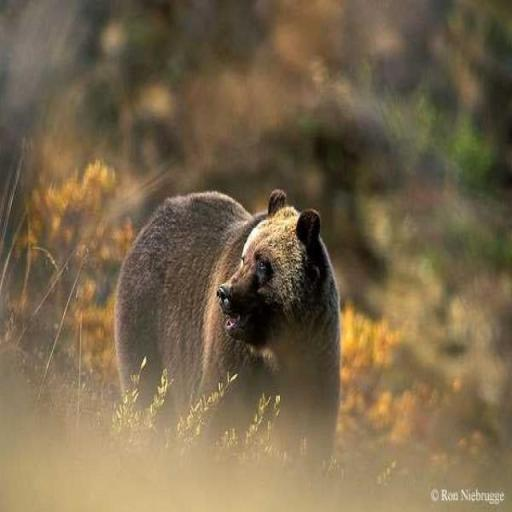Bear: (114, 186, 342, 470)
